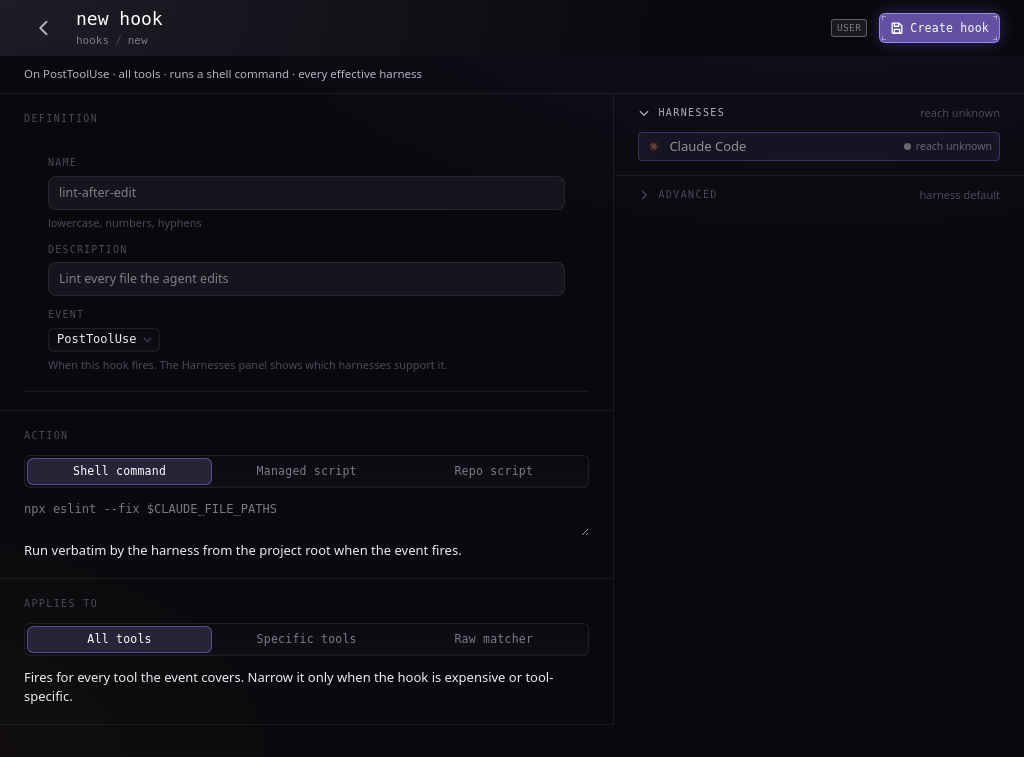
HookEditor — hierarchy and the live summary (D4/D5) › renders a summary that RECOMPUTES as the form changes
Check: the text named "hook summary" reads "On PostToolUse · all tools · runs a shell command · every effective harness", box [24,66,422,81]
Click the dropdown named "event": click(104, 340) [48,328,160,352]
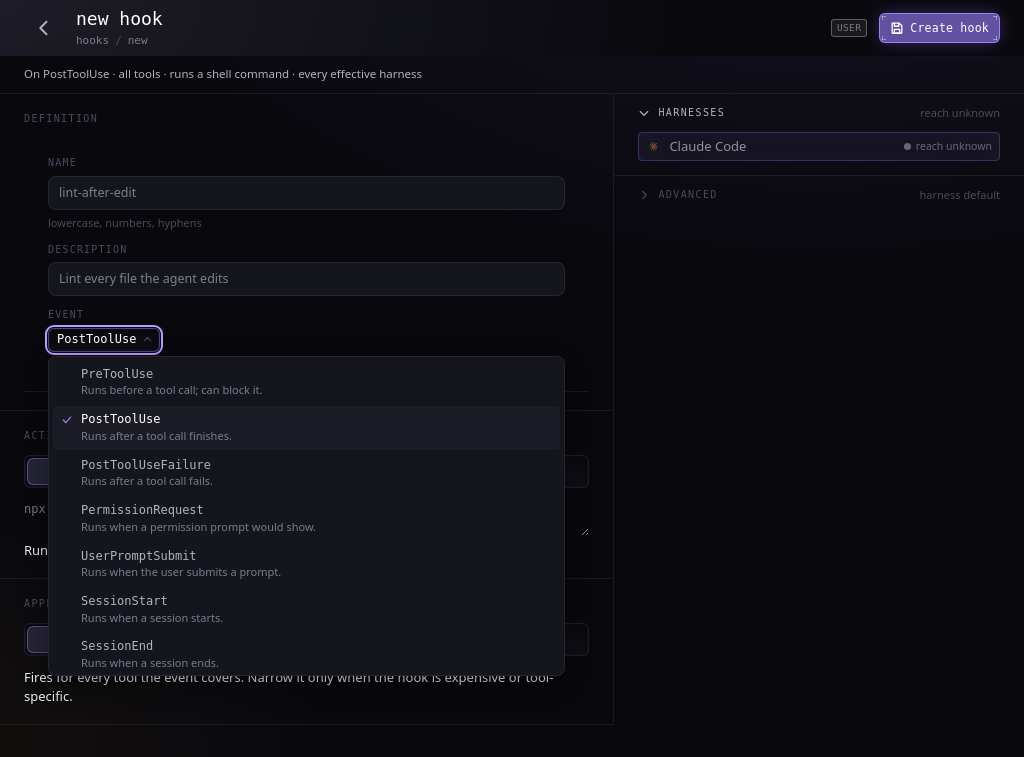
Click the option "SessionStart Runs when a session starts.": click(152, 609) [81,594,223,625]
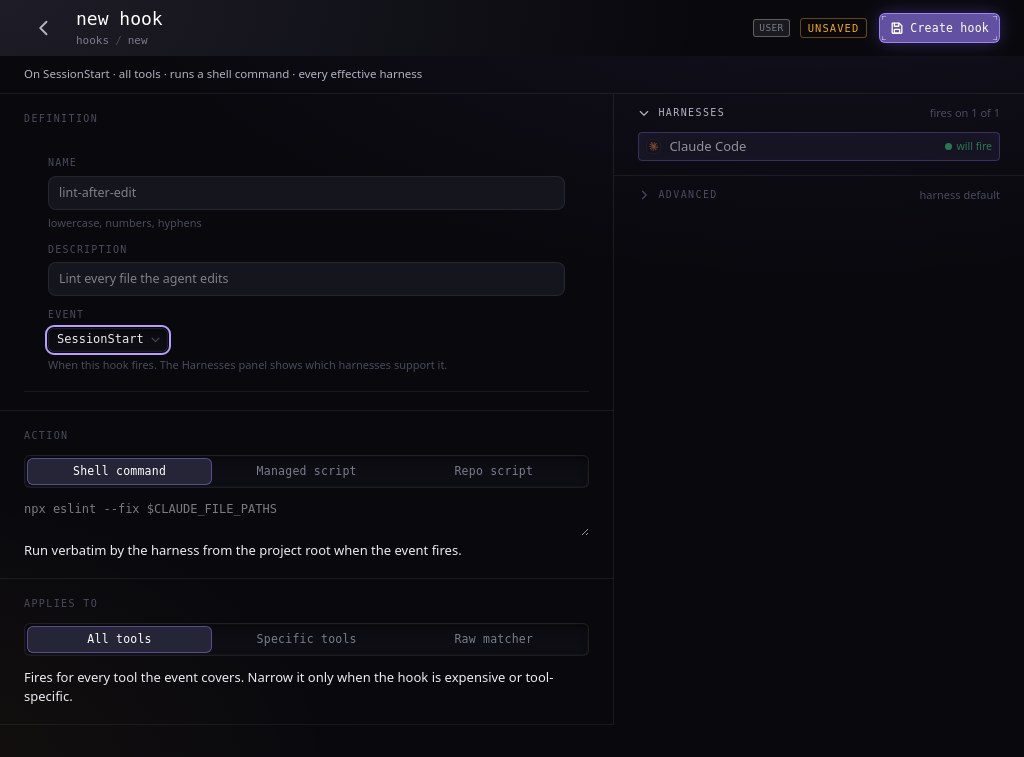
Click the radio button labelled "Managed script": click(307, 471) [257,464,357,478]
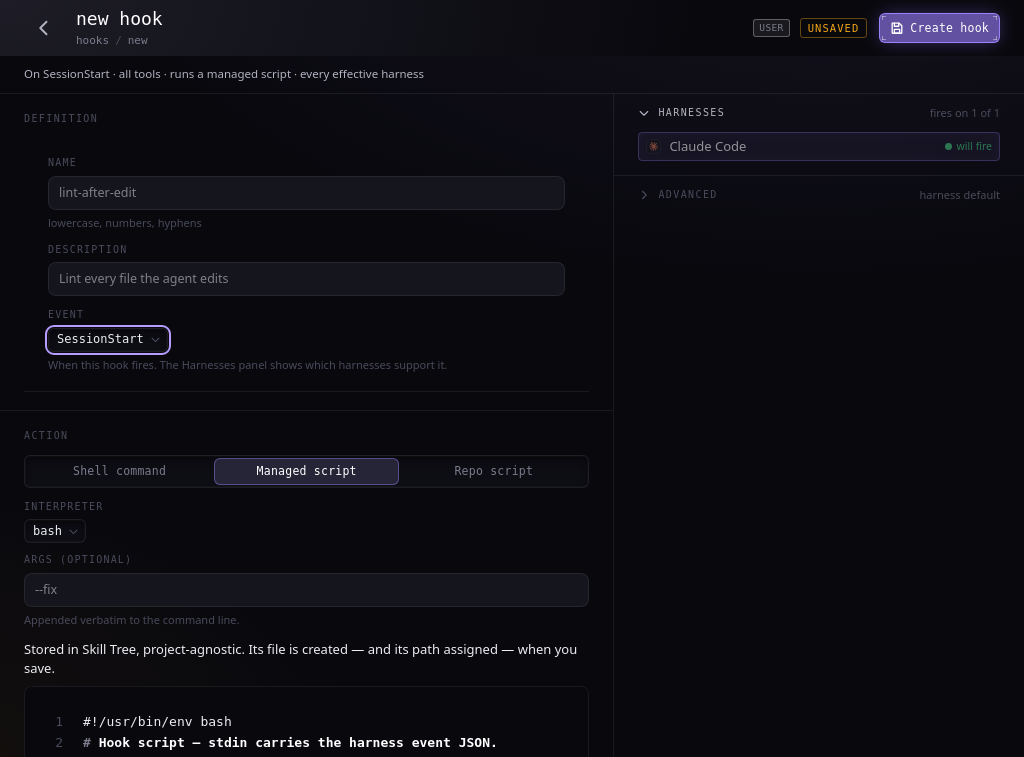
Check: the text named "hook summary" shows "On SessionStart · all tools · runs a managed script", box [24,66,424,81]
